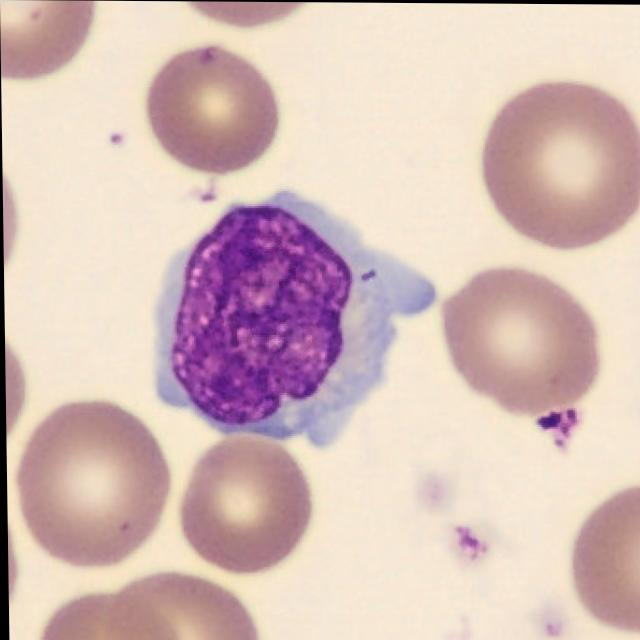Linfocito: (157, 200, 430, 445)
